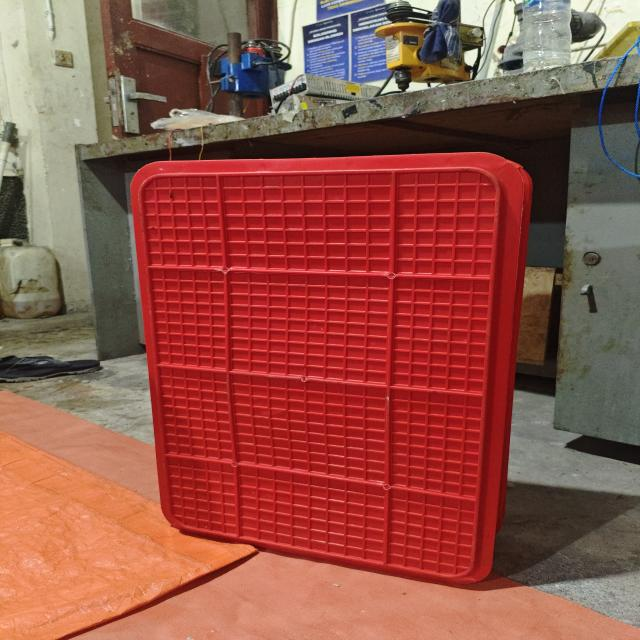red plastic box: (131, 152, 534, 585)
